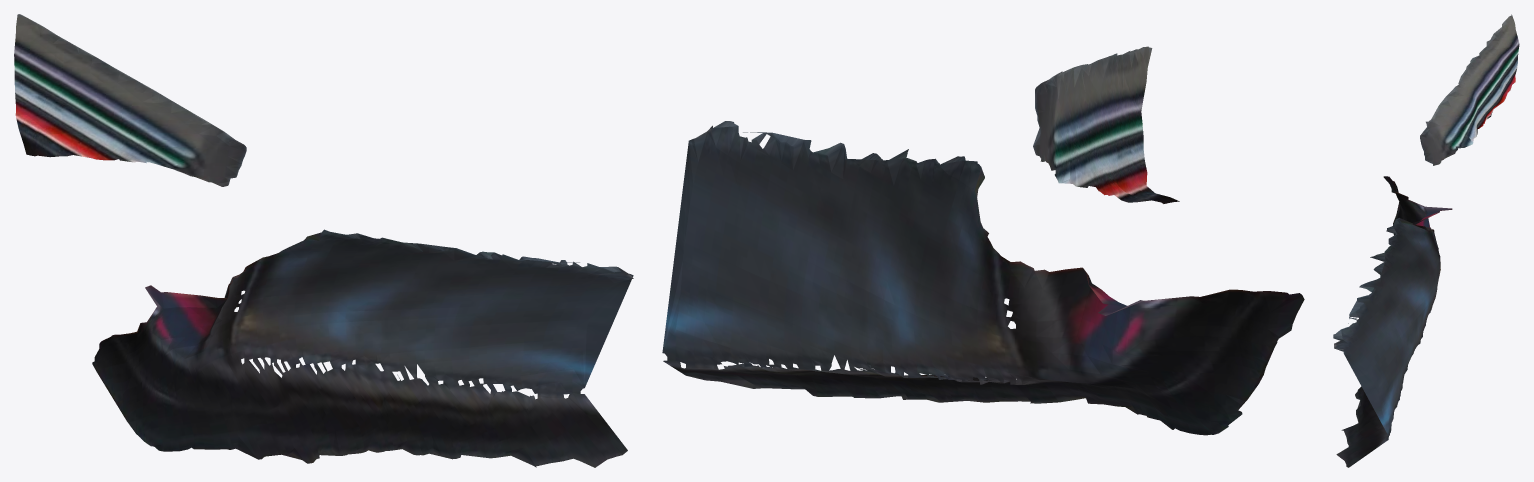
The model's file is observed-surface.glb.
3 renders of one model, left to right at view 1: azimuth 30°, elevation 25°; view 2: azimuth 150°, elevation 25°; view 3: azimuth 270°, elevation 25°, orthographic. The views are drawn at different scales.
Visible parts, largest first — view 1: geometry_0; view 2: geometry_0; view 3: geometry_0.
Part boxes in pixels (x1,y1,x2,y2): geometry_0: (14, 14, 633, 467); geometry_0: (662, 46, 1304, 435); geometry_0: (1333, 14, 1519, 467).
Bounding box in the file's own units: 0.5447 × 0.4782 × 0.2676.
Materials: 1 (1 with a texture image).
